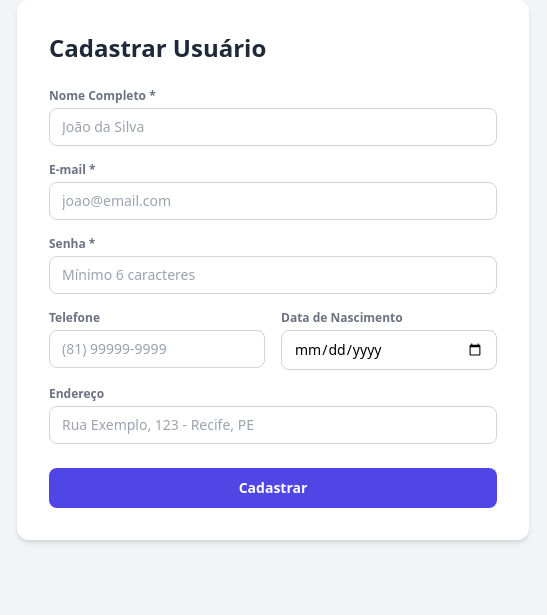
FormularioCadastro › exibe erro genérico quando a API falha sem mensagem
This screenshot has width=547, height=615.
Type "Jamylle" into the field with placeholder "João da Silva" at (273, 127), box [49,108,497,146]
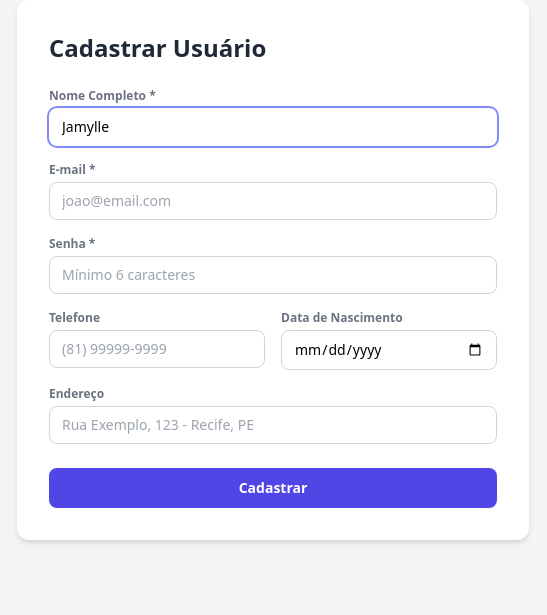
Type "j@j.com" into the field with placeholder "joao@email.com" at (273, 201), box [49,182,497,220]
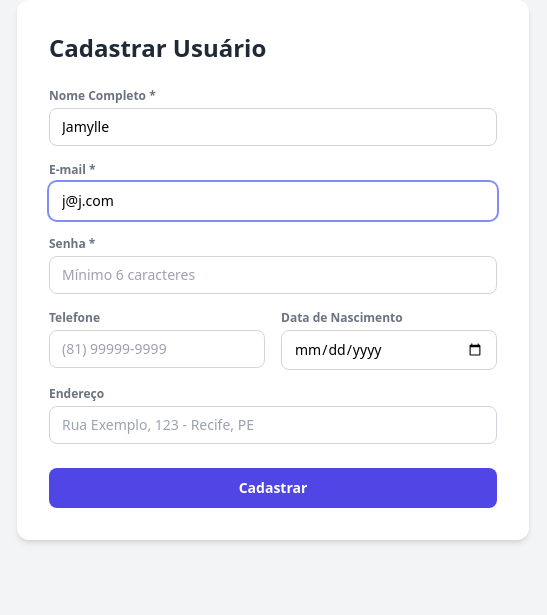
Type "123456" into the password field with placeholder "Mínimo 6 caracteres" at (273, 275), box [49,256,497,294]
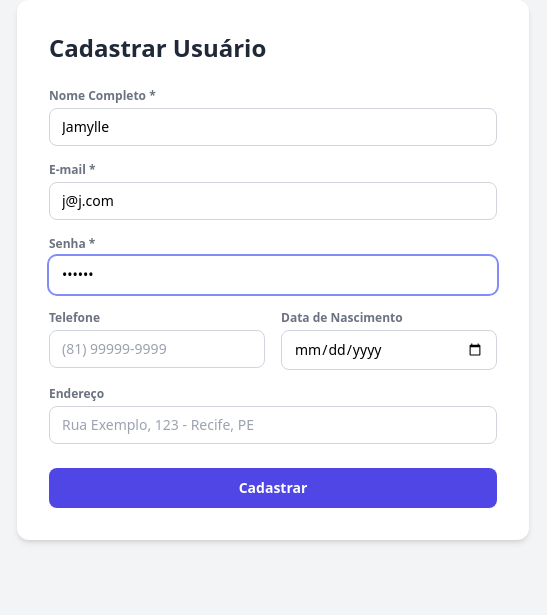
Click the button "Cadastrar" at (273, 488), box [49,468,497,508]
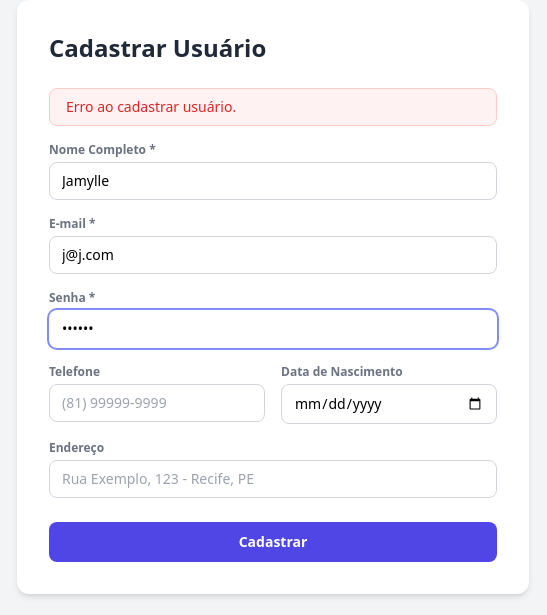
Result: the text "Erro ao cadastrar usuário." is shown at [49,88,497,126]
